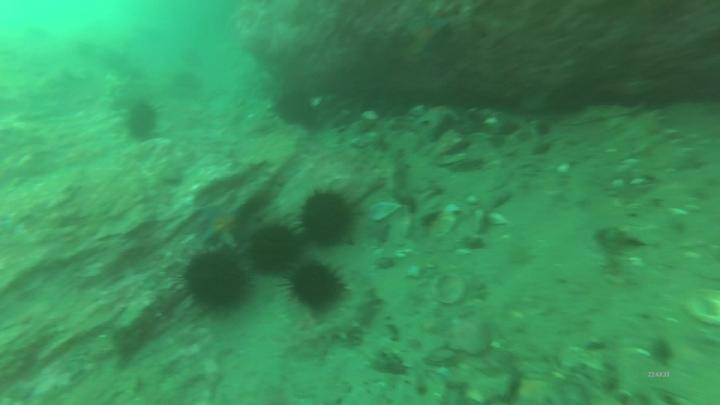echinus: (186, 246, 255, 319), (281, 260, 350, 320), (299, 186, 357, 255), (246, 224, 308, 277), (269, 89, 319, 129), (120, 98, 159, 142)
starfish: (196, 198, 249, 250)
